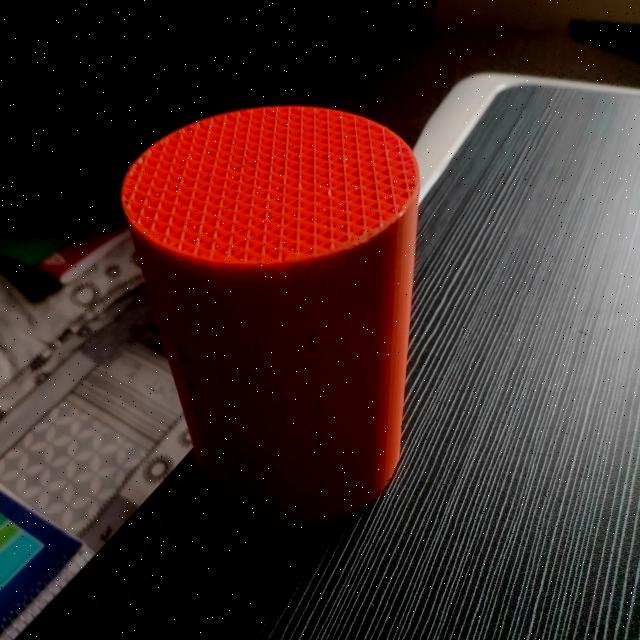Cylinder: (120, 103, 422, 532)
